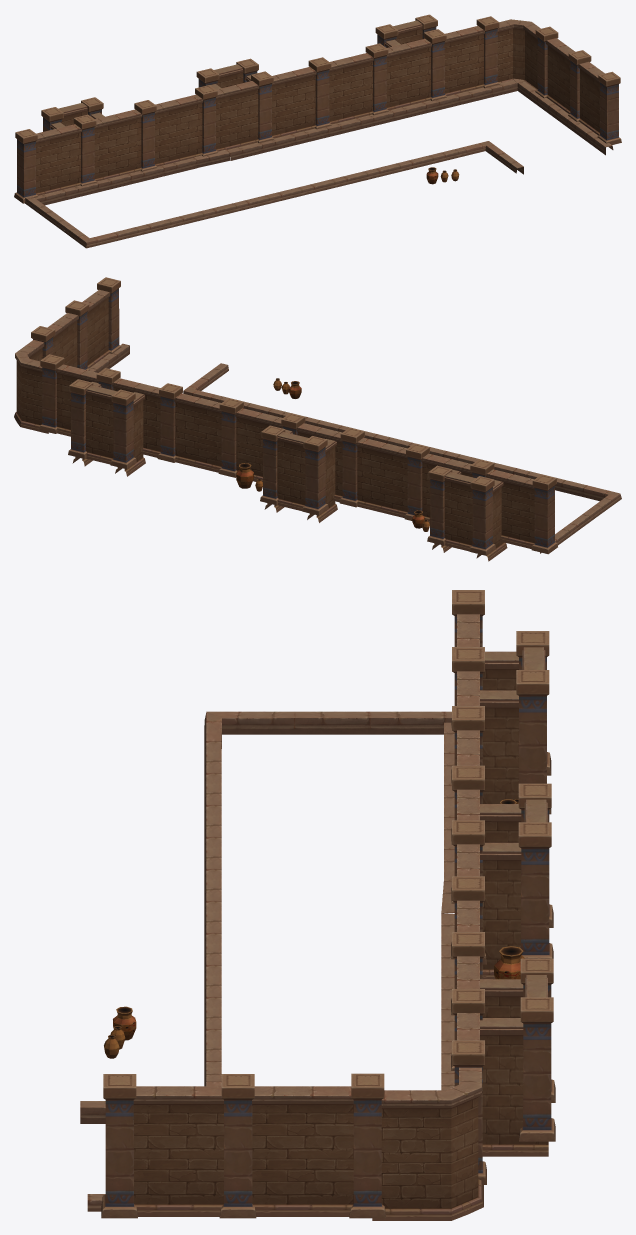
Rendered from Area_09_16.fbx.
3 views of the same model, one above another, from view 1: azimuth 30°, elevation 25°; view 2: azimuth 150°, elevation 25°; view 3: azimuth 270°, elevation 25° (orthographic). The views are drawn at different scales.
Visible parts, largest first — view 1: Area_09_16; view 2: Area_09_16; view 3: Area_09_16.
Part boxes in pixels (x1,y1,x2,y2): Area_09_16: (14, 14, 621, 248); Area_09_16: (14, 277, 621, 561); Area_09_16: (80, 590, 555, 1220).
Bounding box in the file's own units: 4064 × 559 × 1634.
